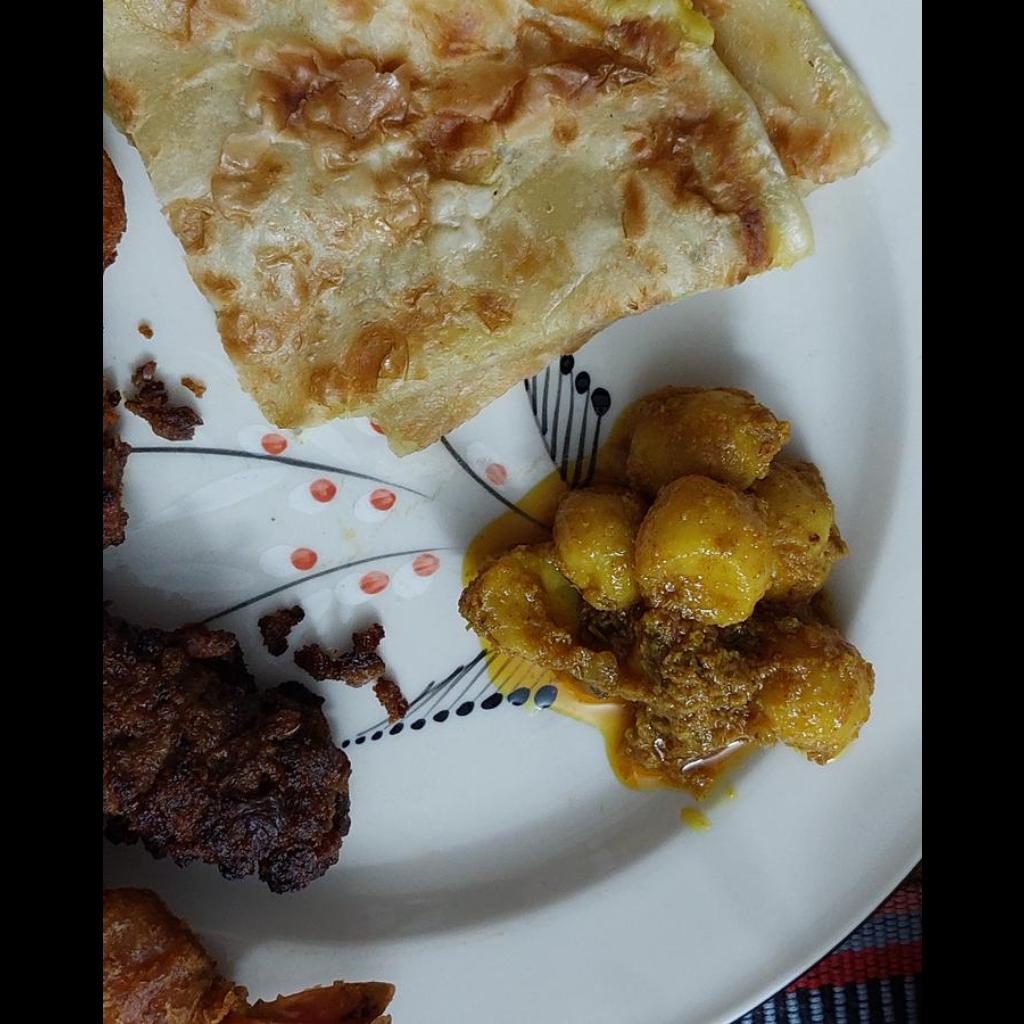kabab: (102, 621, 353, 890)
potato: (465, 382, 877, 770), (102, 889, 392, 1023)
ruti: (104, 1, 893, 449)
